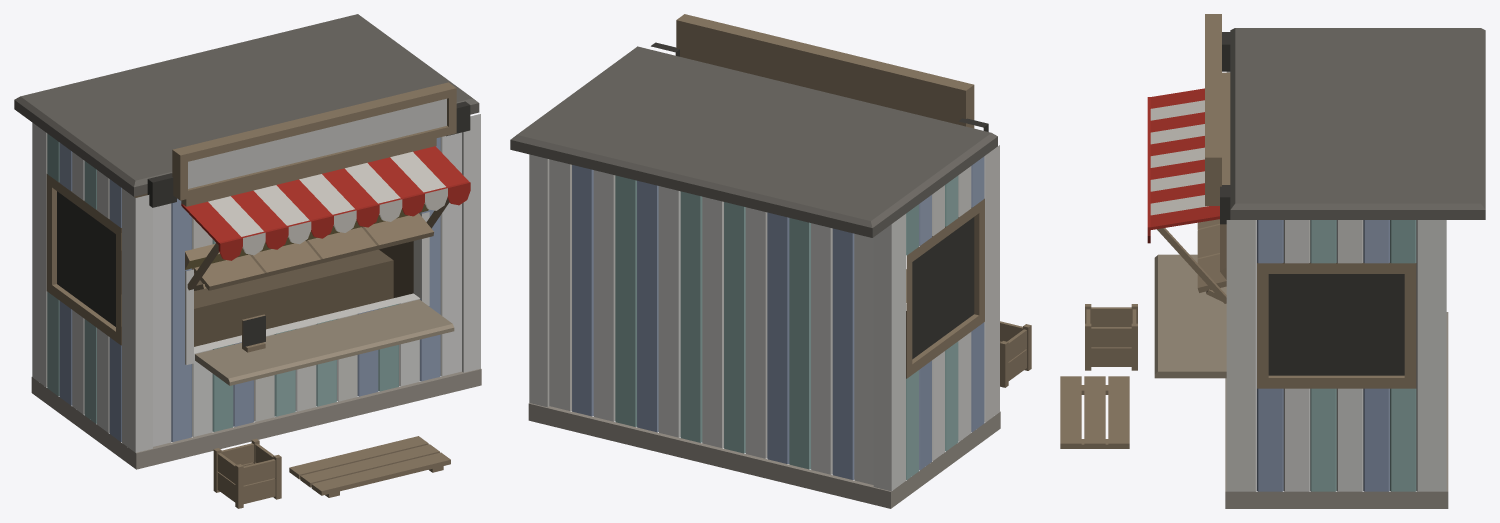
The model's file is beach-cafe-kiosk-9e8f6d.glb.
3 renders of one model, left to right at view 1: azimuth 30°, elevation 25°; view 2: azimuth 150°, elevation 25°; view 3: azimuth 270°, elevation 25°, orthographic. The views are drawn at different scales.
Visible parts, largest first — view 1: kiosk-shell, counter-mesh, shutter-mesh, valance-mesh, crate-mesh, menu-board-mesh; view 2: kiosk-shell, crate-mesh; view 3: kiosk-shell, counter-mesh, crate-mesh, shutter-mesh, valance-mesh.
Boxes of the visible parts, <box> form: kiosk-shell: <box>14,14,481,497</box>; counter-mesh: <box>195,299,454,385</box>; shutter-mesh: <box>194,213,433,290</box>; valance-mesh: <box>218,181,470,260</box>; crate-mesh: <box>213,438,281,508</box>; menu-board-mesh: <box>242,314,265,352</box>; kiosk-shell: <box>510,14,1000,508</box>; crate-mesh: <box>1000,321,1031,387</box>; kiosk-shell: <box>1060,14,1485,508</box>; counter-mesh: <box>1154,254,1226,378</box>; crate-mesh: <box>1085,304,1137,370</box>; shutter-mesh: <box>1197,219,1226,303</box>; valance-mesh: <box>1147,97,1150,243</box>.
Size of the model in its own units: 4 by 3.46 by 4.
